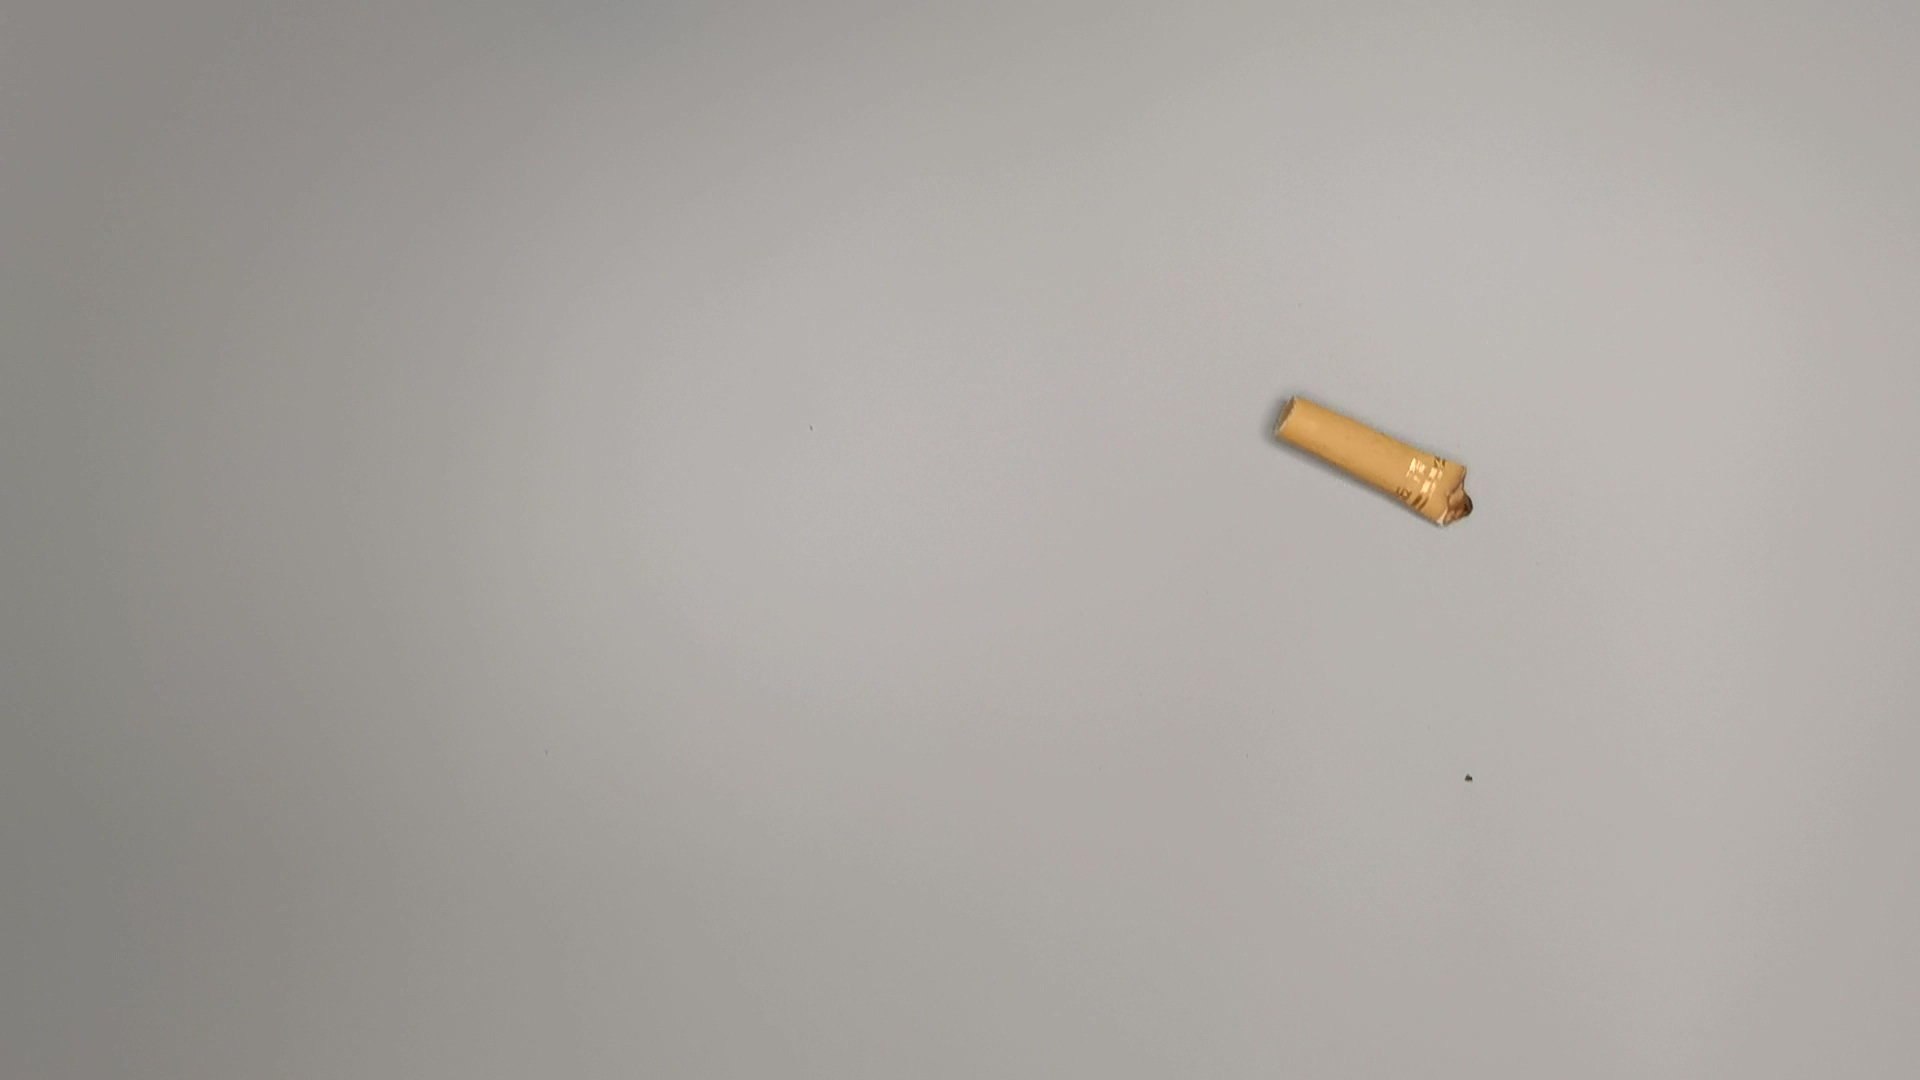cigarette: (1258, 389, 1491, 538)
